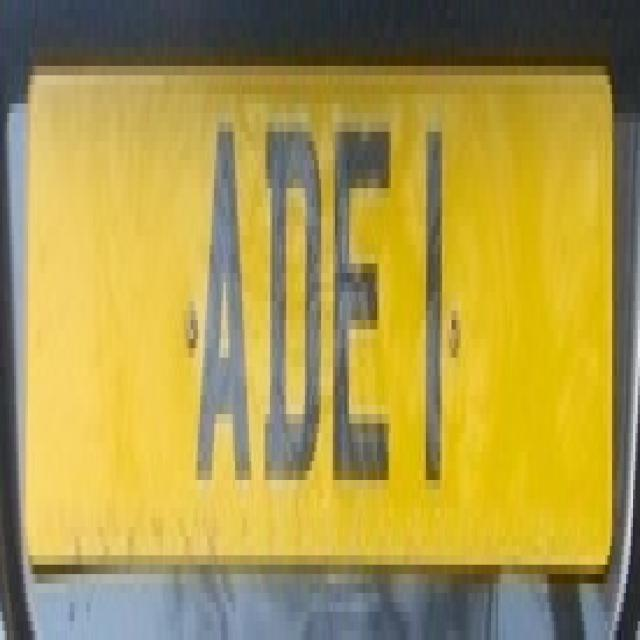licenseplate: (12, 11, 622, 628)
